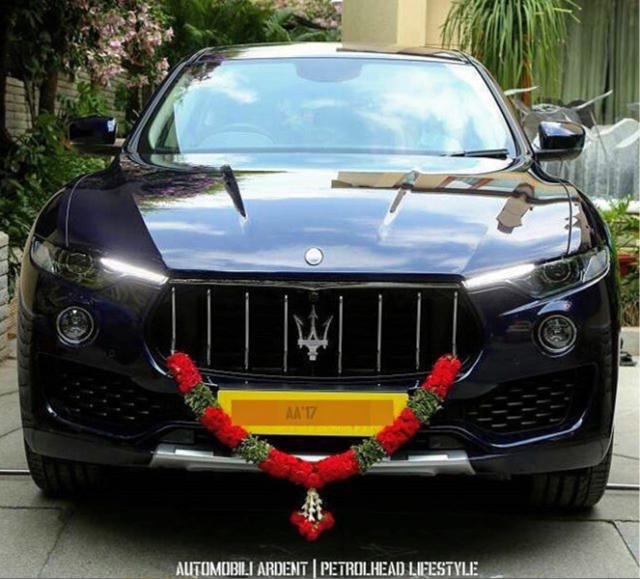maserati: (16, 42, 620, 510)
